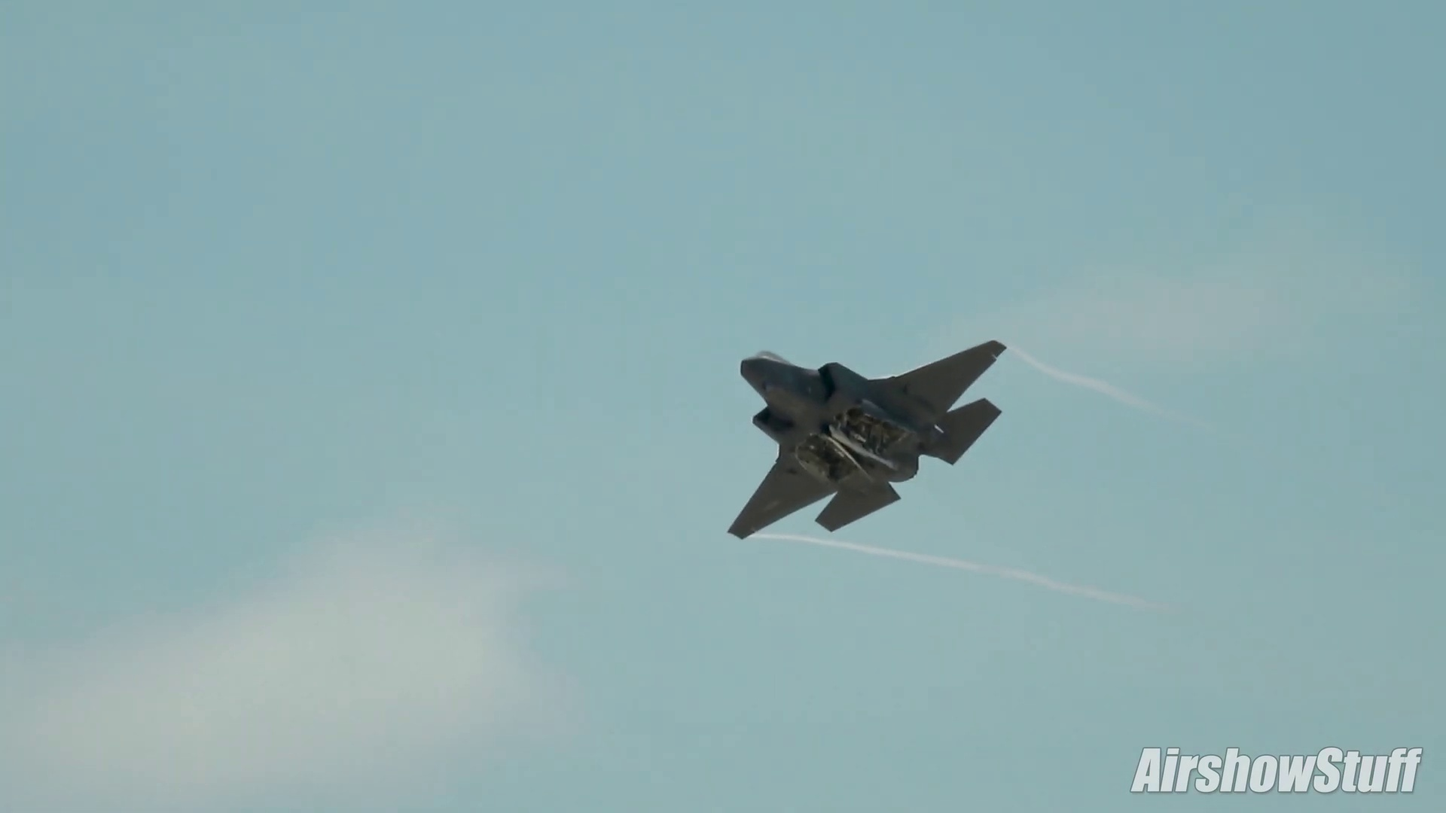F35: (715, 324, 1022, 554)
